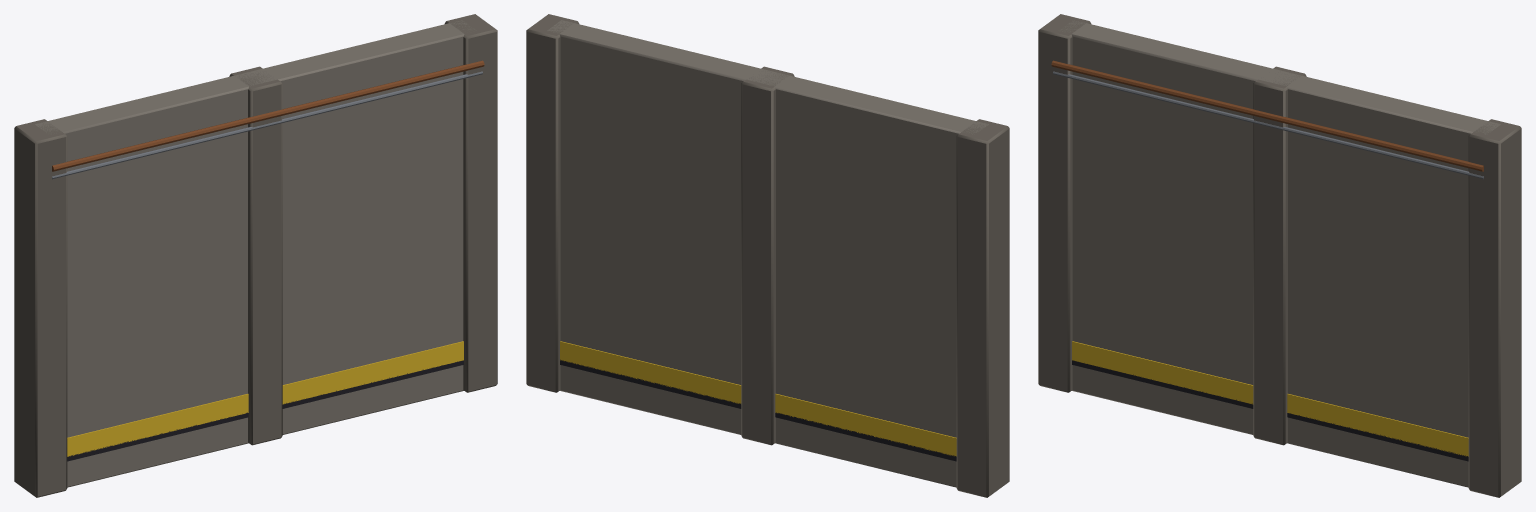
File: wall_run.glb
3 views of the same model, side by side, from view 1: azimuth 30°, elevation 25°; view 2: azimuth 150°, elevation 25°; view 3: azimuth 330°, elevation 25° (orthographic).
Visible parts, largest first — view 1: wall_run; view 2: wall_run; view 3: wall_run.
Part boxes in pixels (left/top/right/bottom): wall_run: left=14, top=14, right=497, bottom=497; wall_run: left=526, top=14, right=1009, bottom=497; wall_run: left=1038, top=14, right=1521, bottom=497.
Size of the model in its own units: 12.9 by 9.5 by 1.19.
